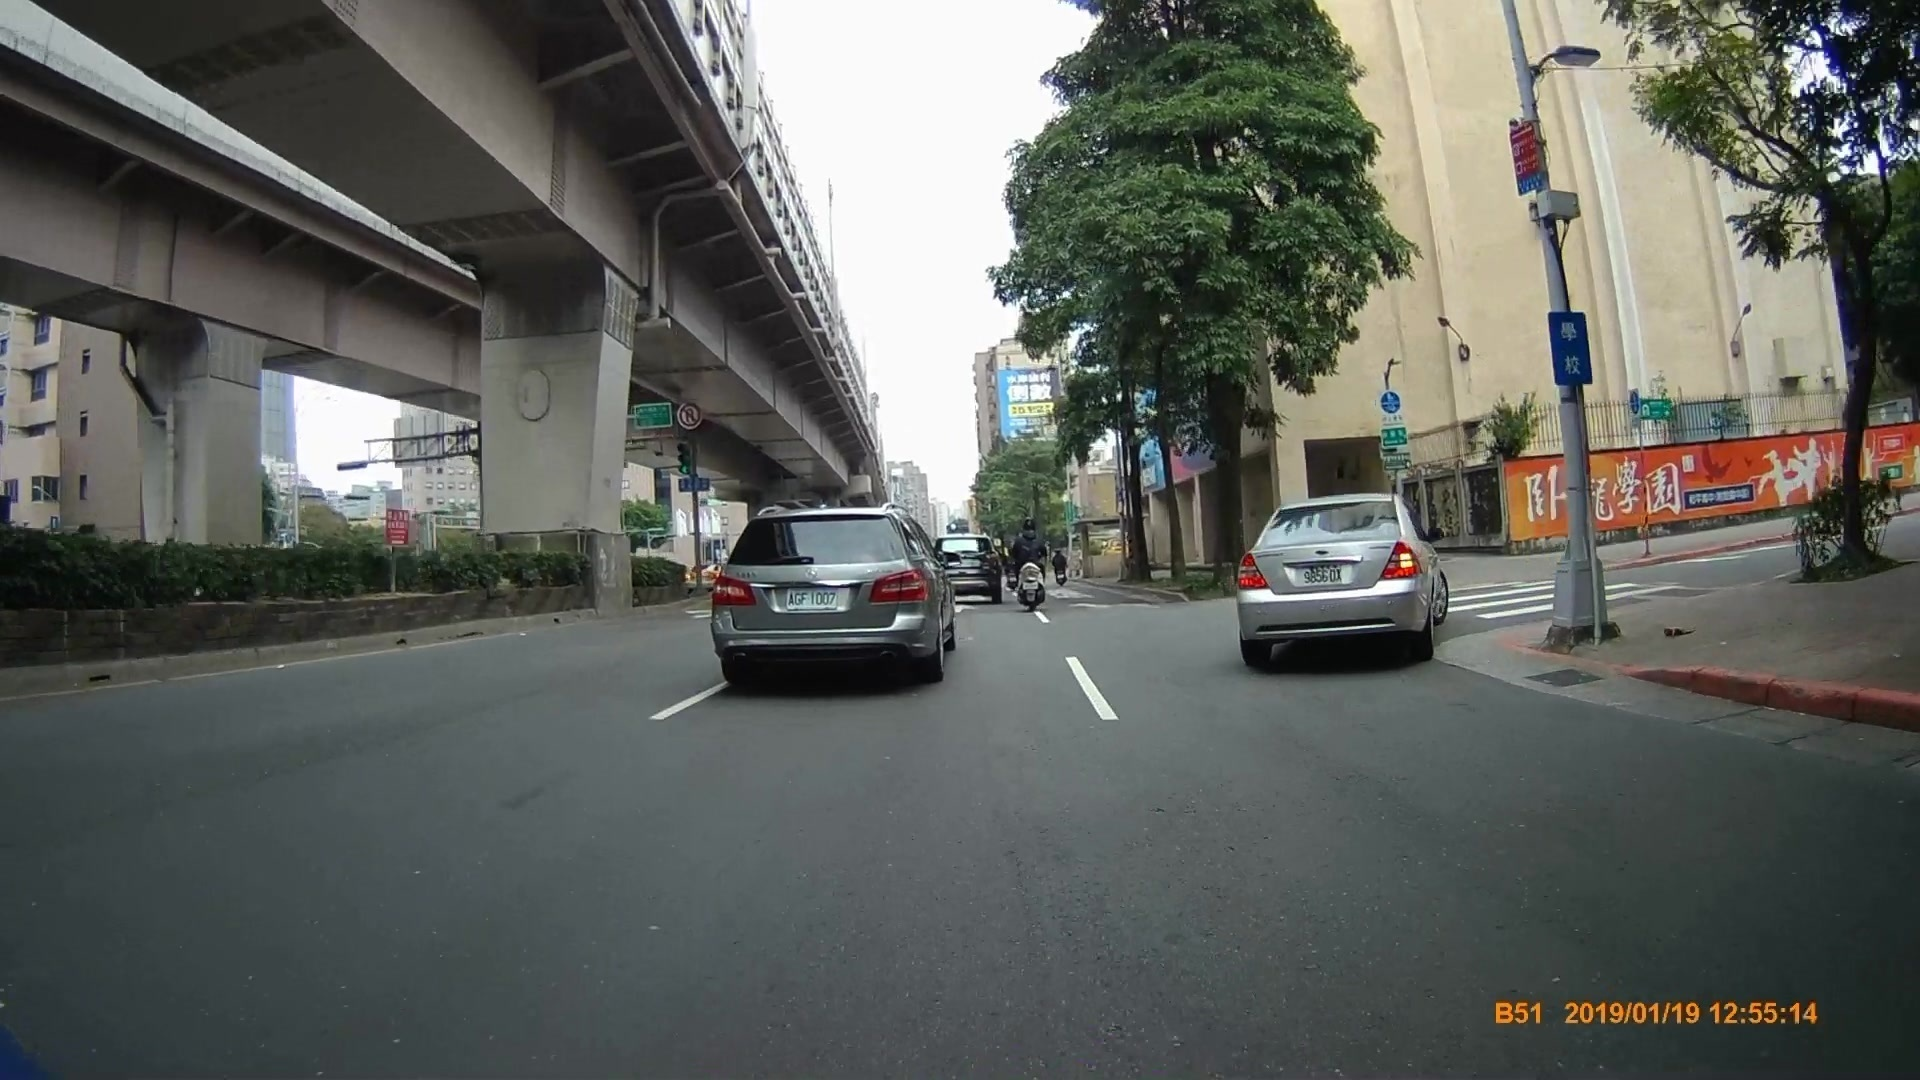License_plate: (783, 588, 839, 609), (1297, 564, 1348, 586)
